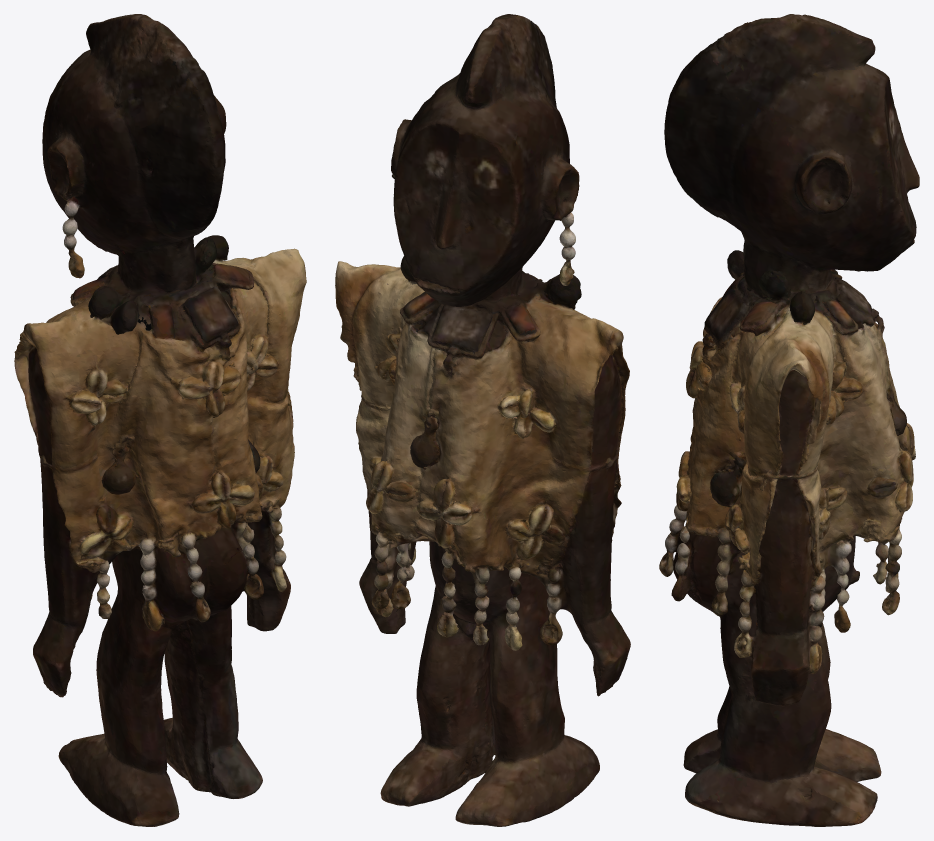
File: preview.glb
3 views of the same model, side by side, from view 1: azimuth 30°, elevation 25°; view 2: azimuth 150°, elevation 25°; view 3: azimuth 270°, elevation 25° (orthographic).
Parts seen in each view (by area): view 1: Object_2; view 2: Object_2; view 3: Object_2.
Boxes of the visible parts, x1,y1,x2,y2 form: Object_2: (14,14,306,826); Object_2: (335,14,630,826); Object_2: (659,14,919,826).
Bounding box in the file's own units: 6120097 × 1.62e+07 × 4929216.
Materials: 1 (1 with a texture image).
